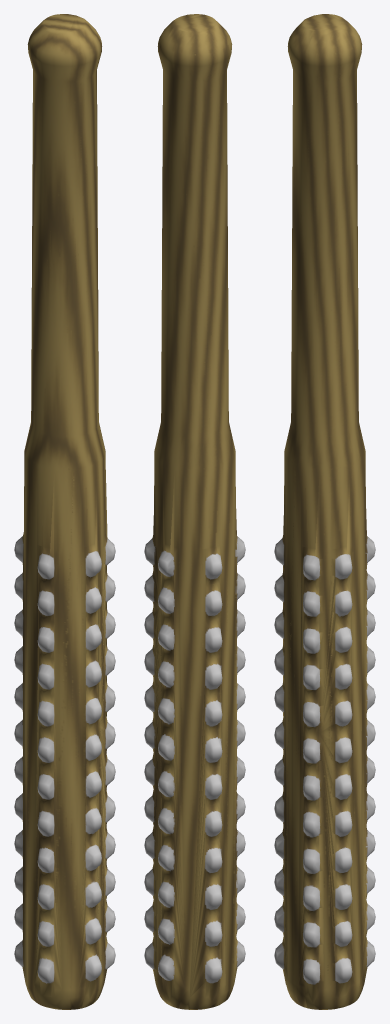
Rendered from Дубинка.fbx.
3 renders of one model, left to right at view 1: azimuth 30°, elevation 25°; view 2: azimuth 150°, elevation 25°; view 3: azimuth 330°, elevation 25°, orthographic.
Parts seen in each view (by area): view 1: Дубинка; view 2: Дубинка; view 3: Дубинка.
Boxes of the visible parts, x1,y1,x2,y2 form: Дубинка: (14, 14, 115, 1009); Дубинка: (144, 14, 245, 1009); Дубинка: (274, 14, 375, 1009).
Size of the model in its own units: 0.0687 by 0.8353 by 0.0781.
Materials: 1 (1 with a texture image).
